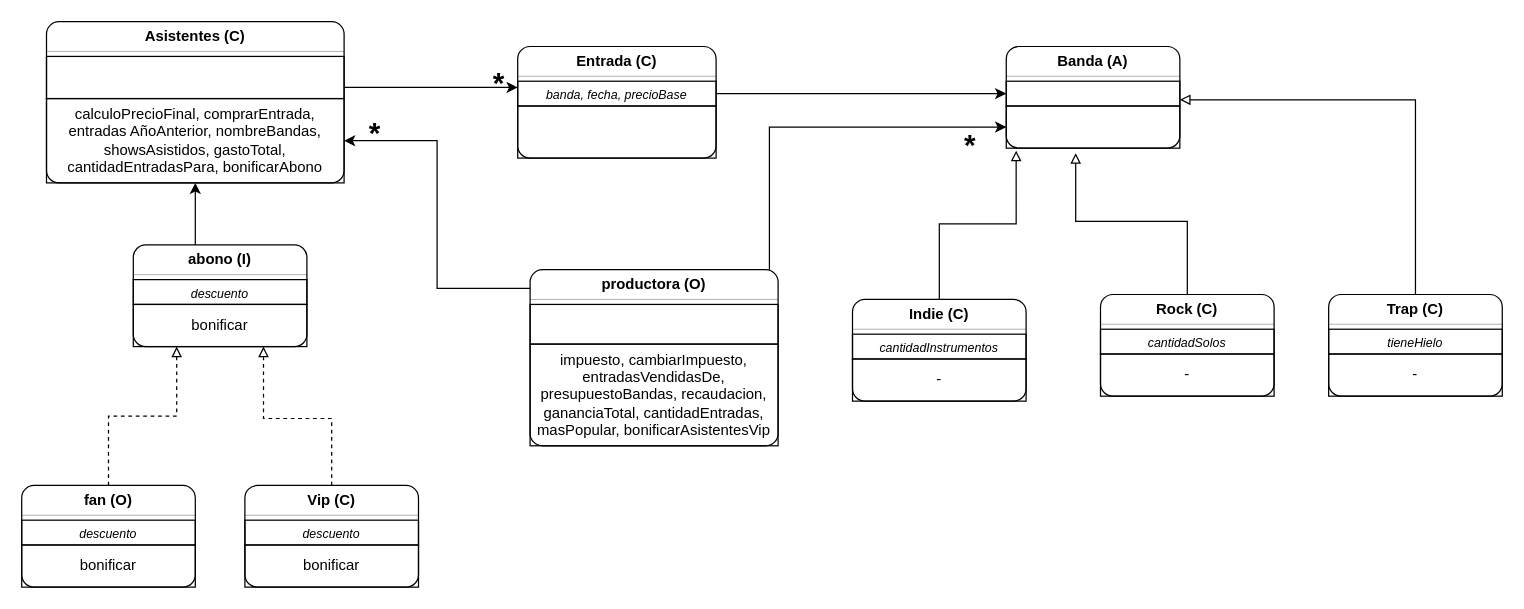
Image size: 1524x609. Some labels were removed from this diagram. Each missing label, with the centre of its shape:
"abono, historialEntradas, dineroDisponible, fecha actual" belongs at point 194,77.
"canon, gastoExtra, presupuesto, popularidad" belongs at point 1092,126.
"impuesto, asistentes, bandas" belongs at point 653,323.
"nombre" belongs at point 1092,93.
"precioFinal, nombreBanda, presupuestoBanda" belongs at point 616,131.
